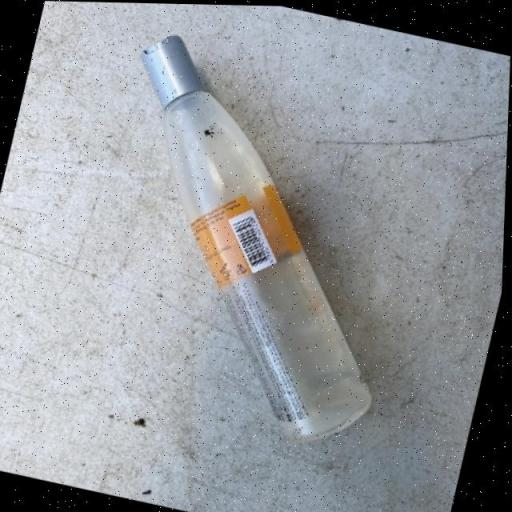plastic: (62, 24, 445, 455)
